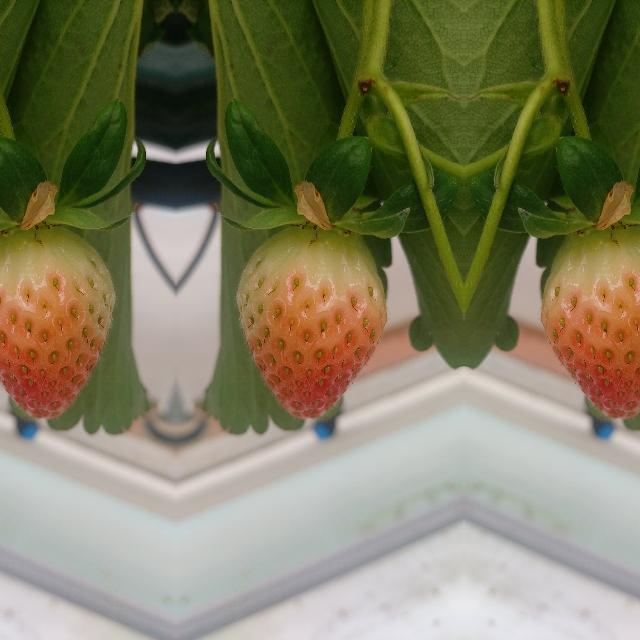Health_75: (234, 226, 386, 418), (0, 225, 115, 418), (540, 225, 640, 418)
